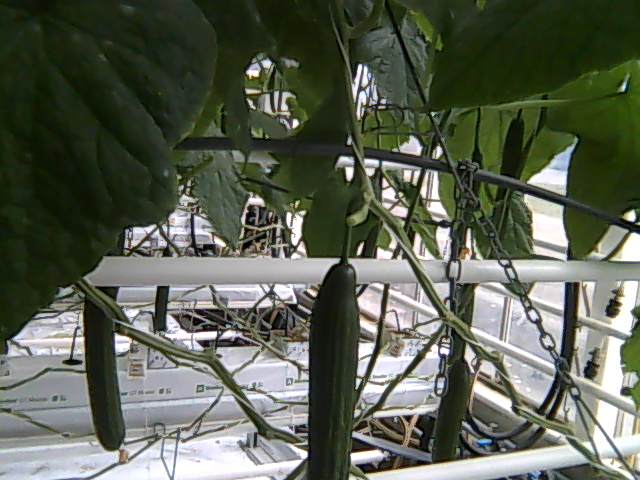concombre: (302, 259, 365, 480)
